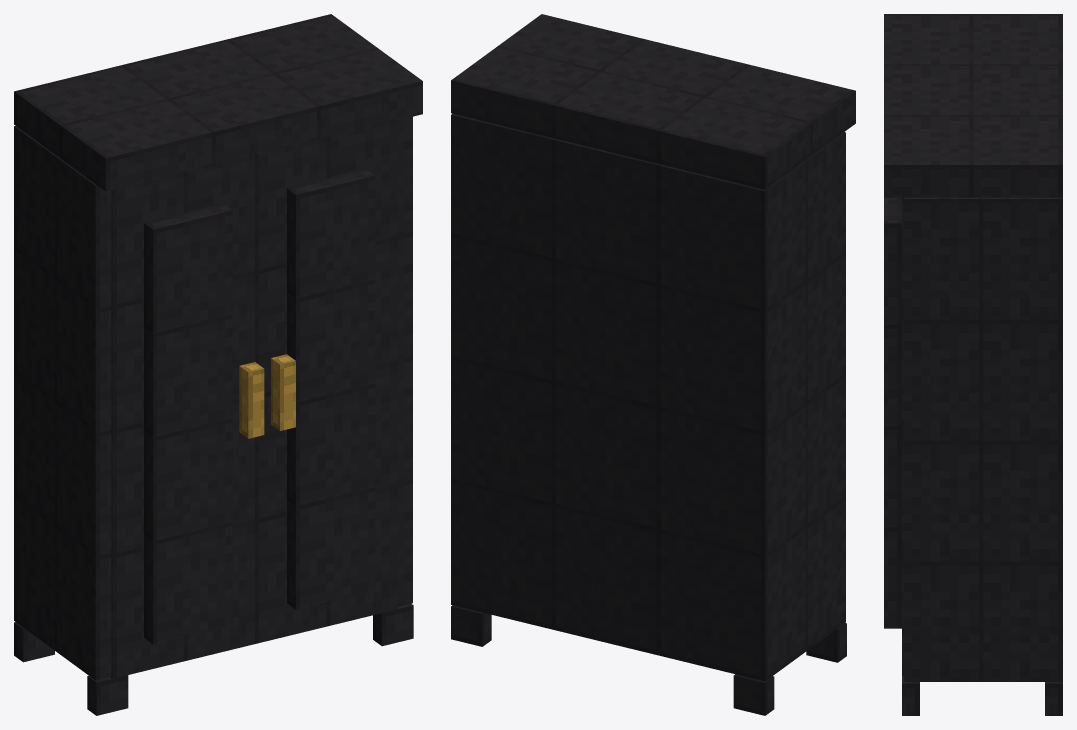
Rendered from bedroomWardrobeMansion_1.glb.
The picture shows the model from 3 angles, left to right: view 1: azimuth 30°, elevation 25°; view 2: azimuth 150°, elevation 25°; view 3: azimuth 270°, elevation 25°; orthographic projection. The views are drawn at different scales.
Visible parts, largest first — view 1: bedroomWardrobeMansion_1; view 2: bedroomWardrobeMansion_1; view 3: bedroomWardrobeMansion_1.
Part boxes in pixels (left/top/right/bottom): bedroomWardrobeMansion_1: left=14, top=14, right=422, bottom=715; bedroomWardrobeMansion_1: left=451, top=14, right=855, bottom=715; bedroomWardrobeMansion_1: left=884, top=14, right=1062, bottom=715.
Size of the model in its own units: 1.25 by 2.12 by 0.625.
Materials: 1 (1 with a texture image).
